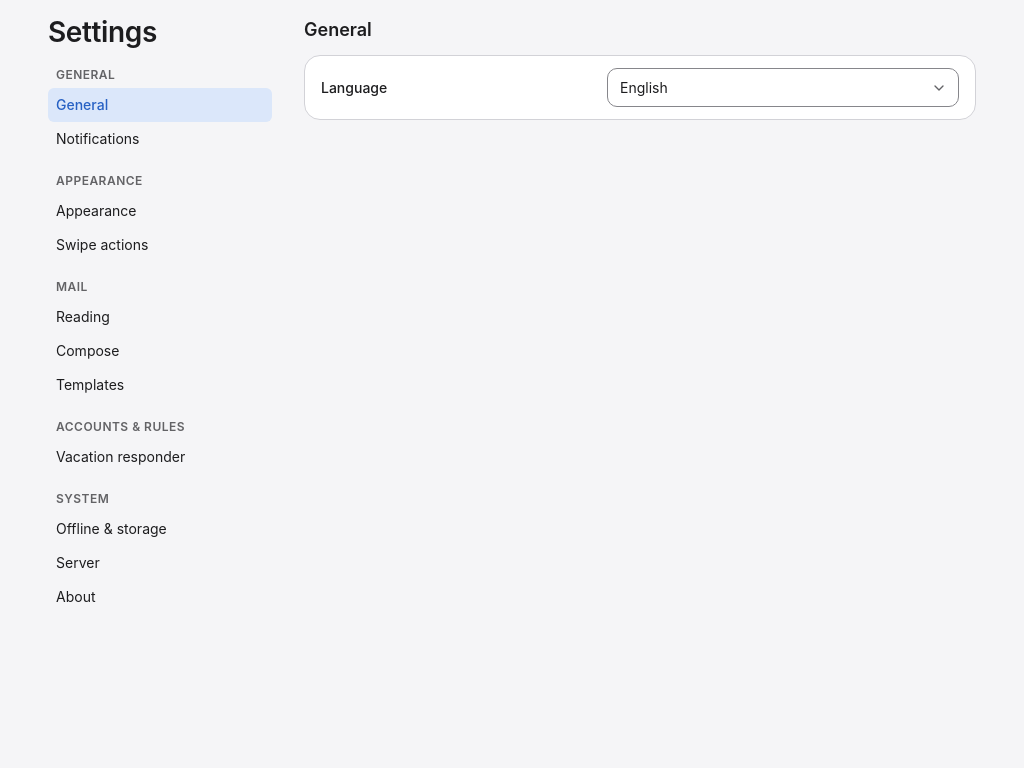
Scenario: leaving a settings section with unsaved input › does not ask when nothing was changed — the counter-test
This screenshot has width=1024, height=768.
Step 1. Click the link "Vacation responder" → [121, 457], box [56,448,185,465]
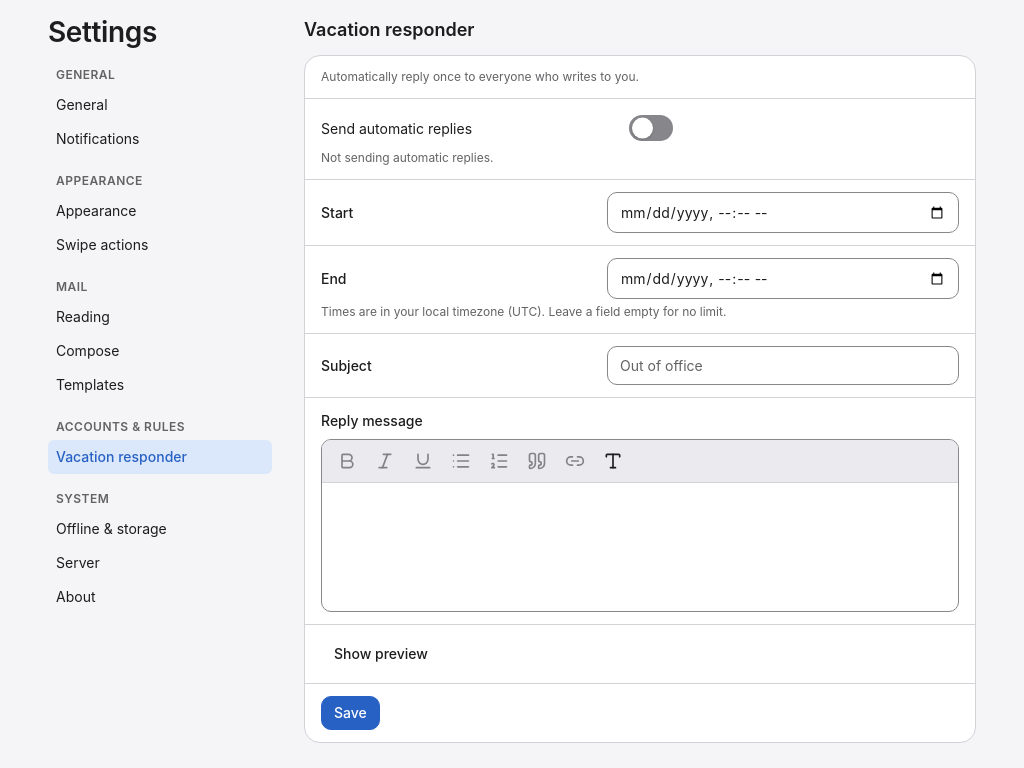
Check: the switch named "Send automatic replies" is shown
Step 2. Click the switch named "Send automatic replies" → [651, 128], box [629,111,673,145]
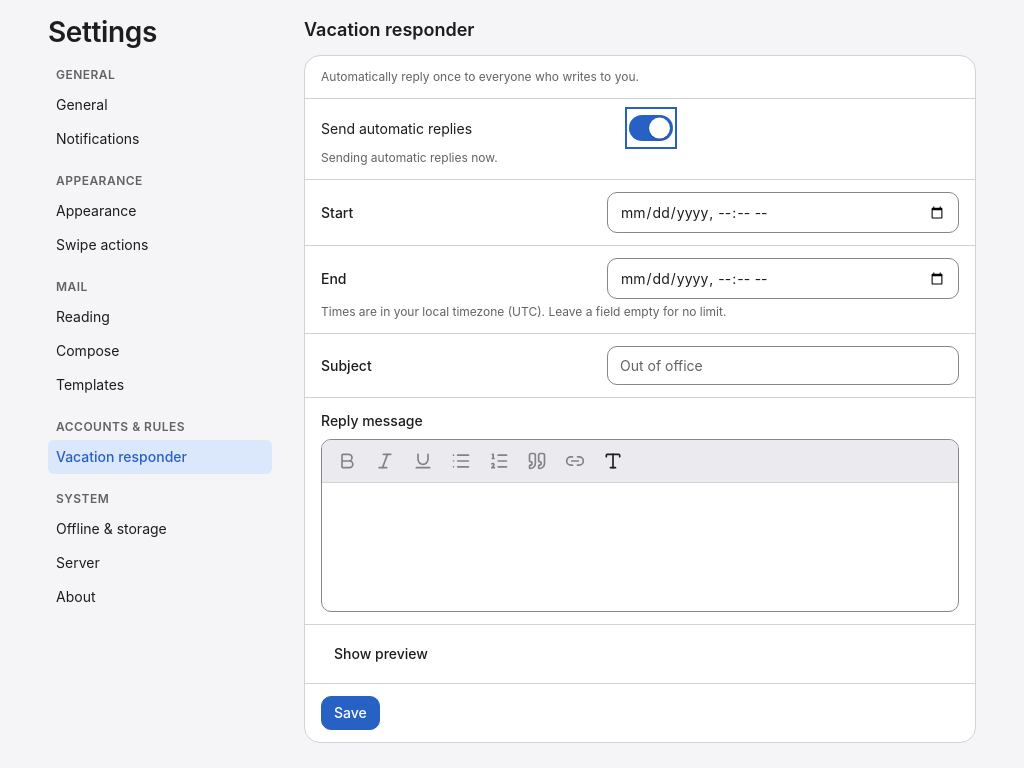
Step 3. Click the switch named "Send automatic replies" → [651, 128], box [629,111,673,145]
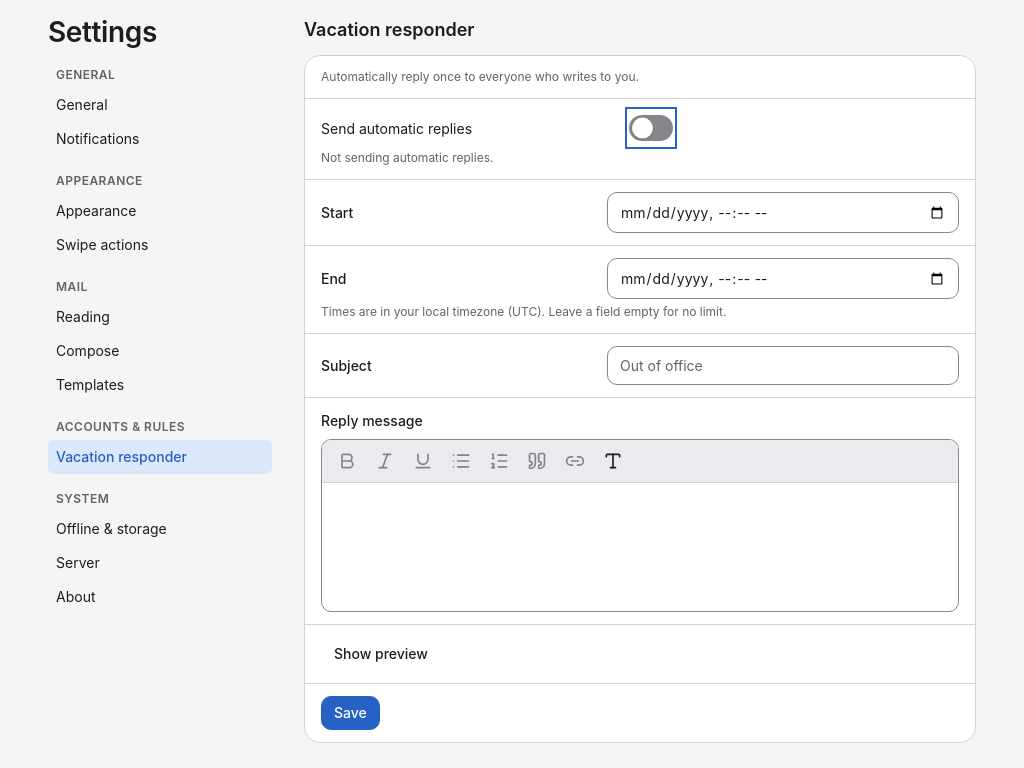
Step 4. Click the link "General" → [82, 105], box [56,96,108,113]
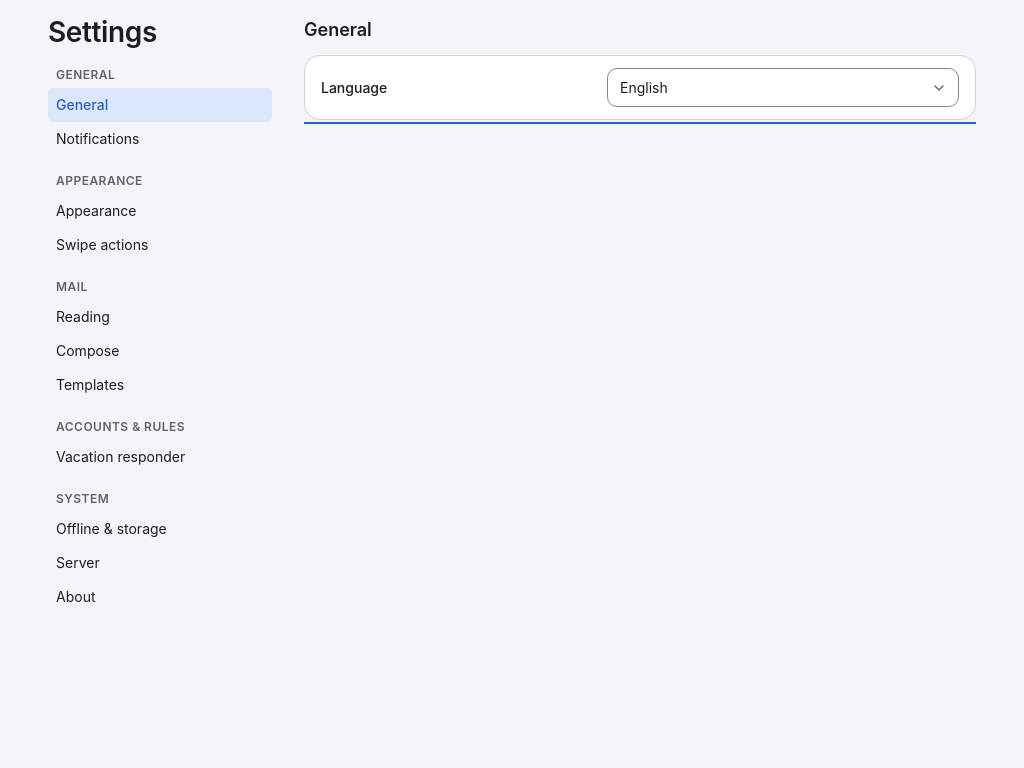
Check: the dropdown labelled "Language" is shown, box [607,68,959,107]
